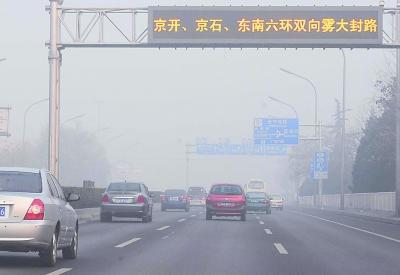bus: (243, 179, 265, 205)
car: (1, 167, 82, 266), (99, 180, 154, 222), (205, 183, 249, 221), (160, 188, 193, 212), (244, 191, 273, 214), (185, 186, 208, 209), (266, 192, 285, 211)
